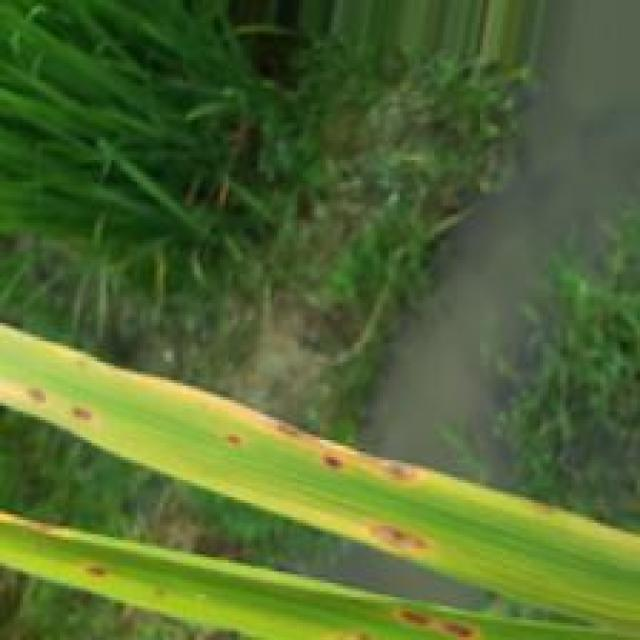Brown_Spot: (263, 417, 425, 488), (392, 607, 481, 639), (361, 521, 441, 552), (23, 379, 49, 410), (66, 406, 95, 420), (224, 432, 242, 447), (84, 566, 107, 577)
